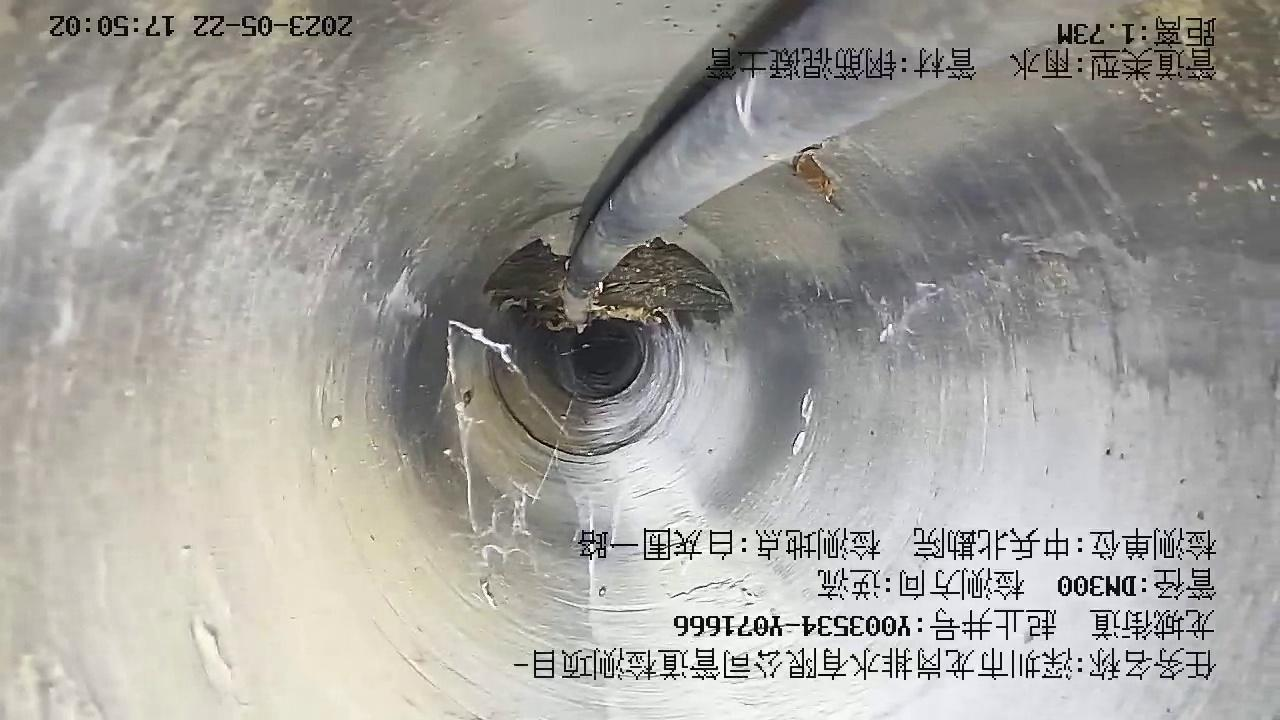YWCR: (563, 1, 1128, 325)
